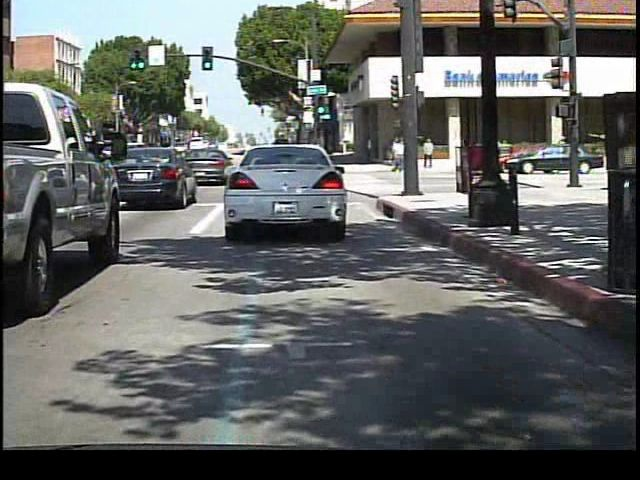person: (485, 135, 505, 172), (421, 136, 437, 169), (391, 137, 404, 176)
